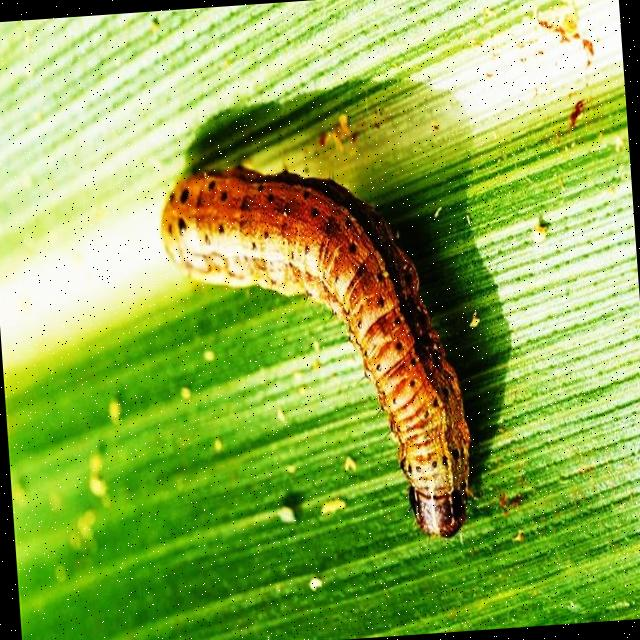worm: (156, 150, 480, 561)
